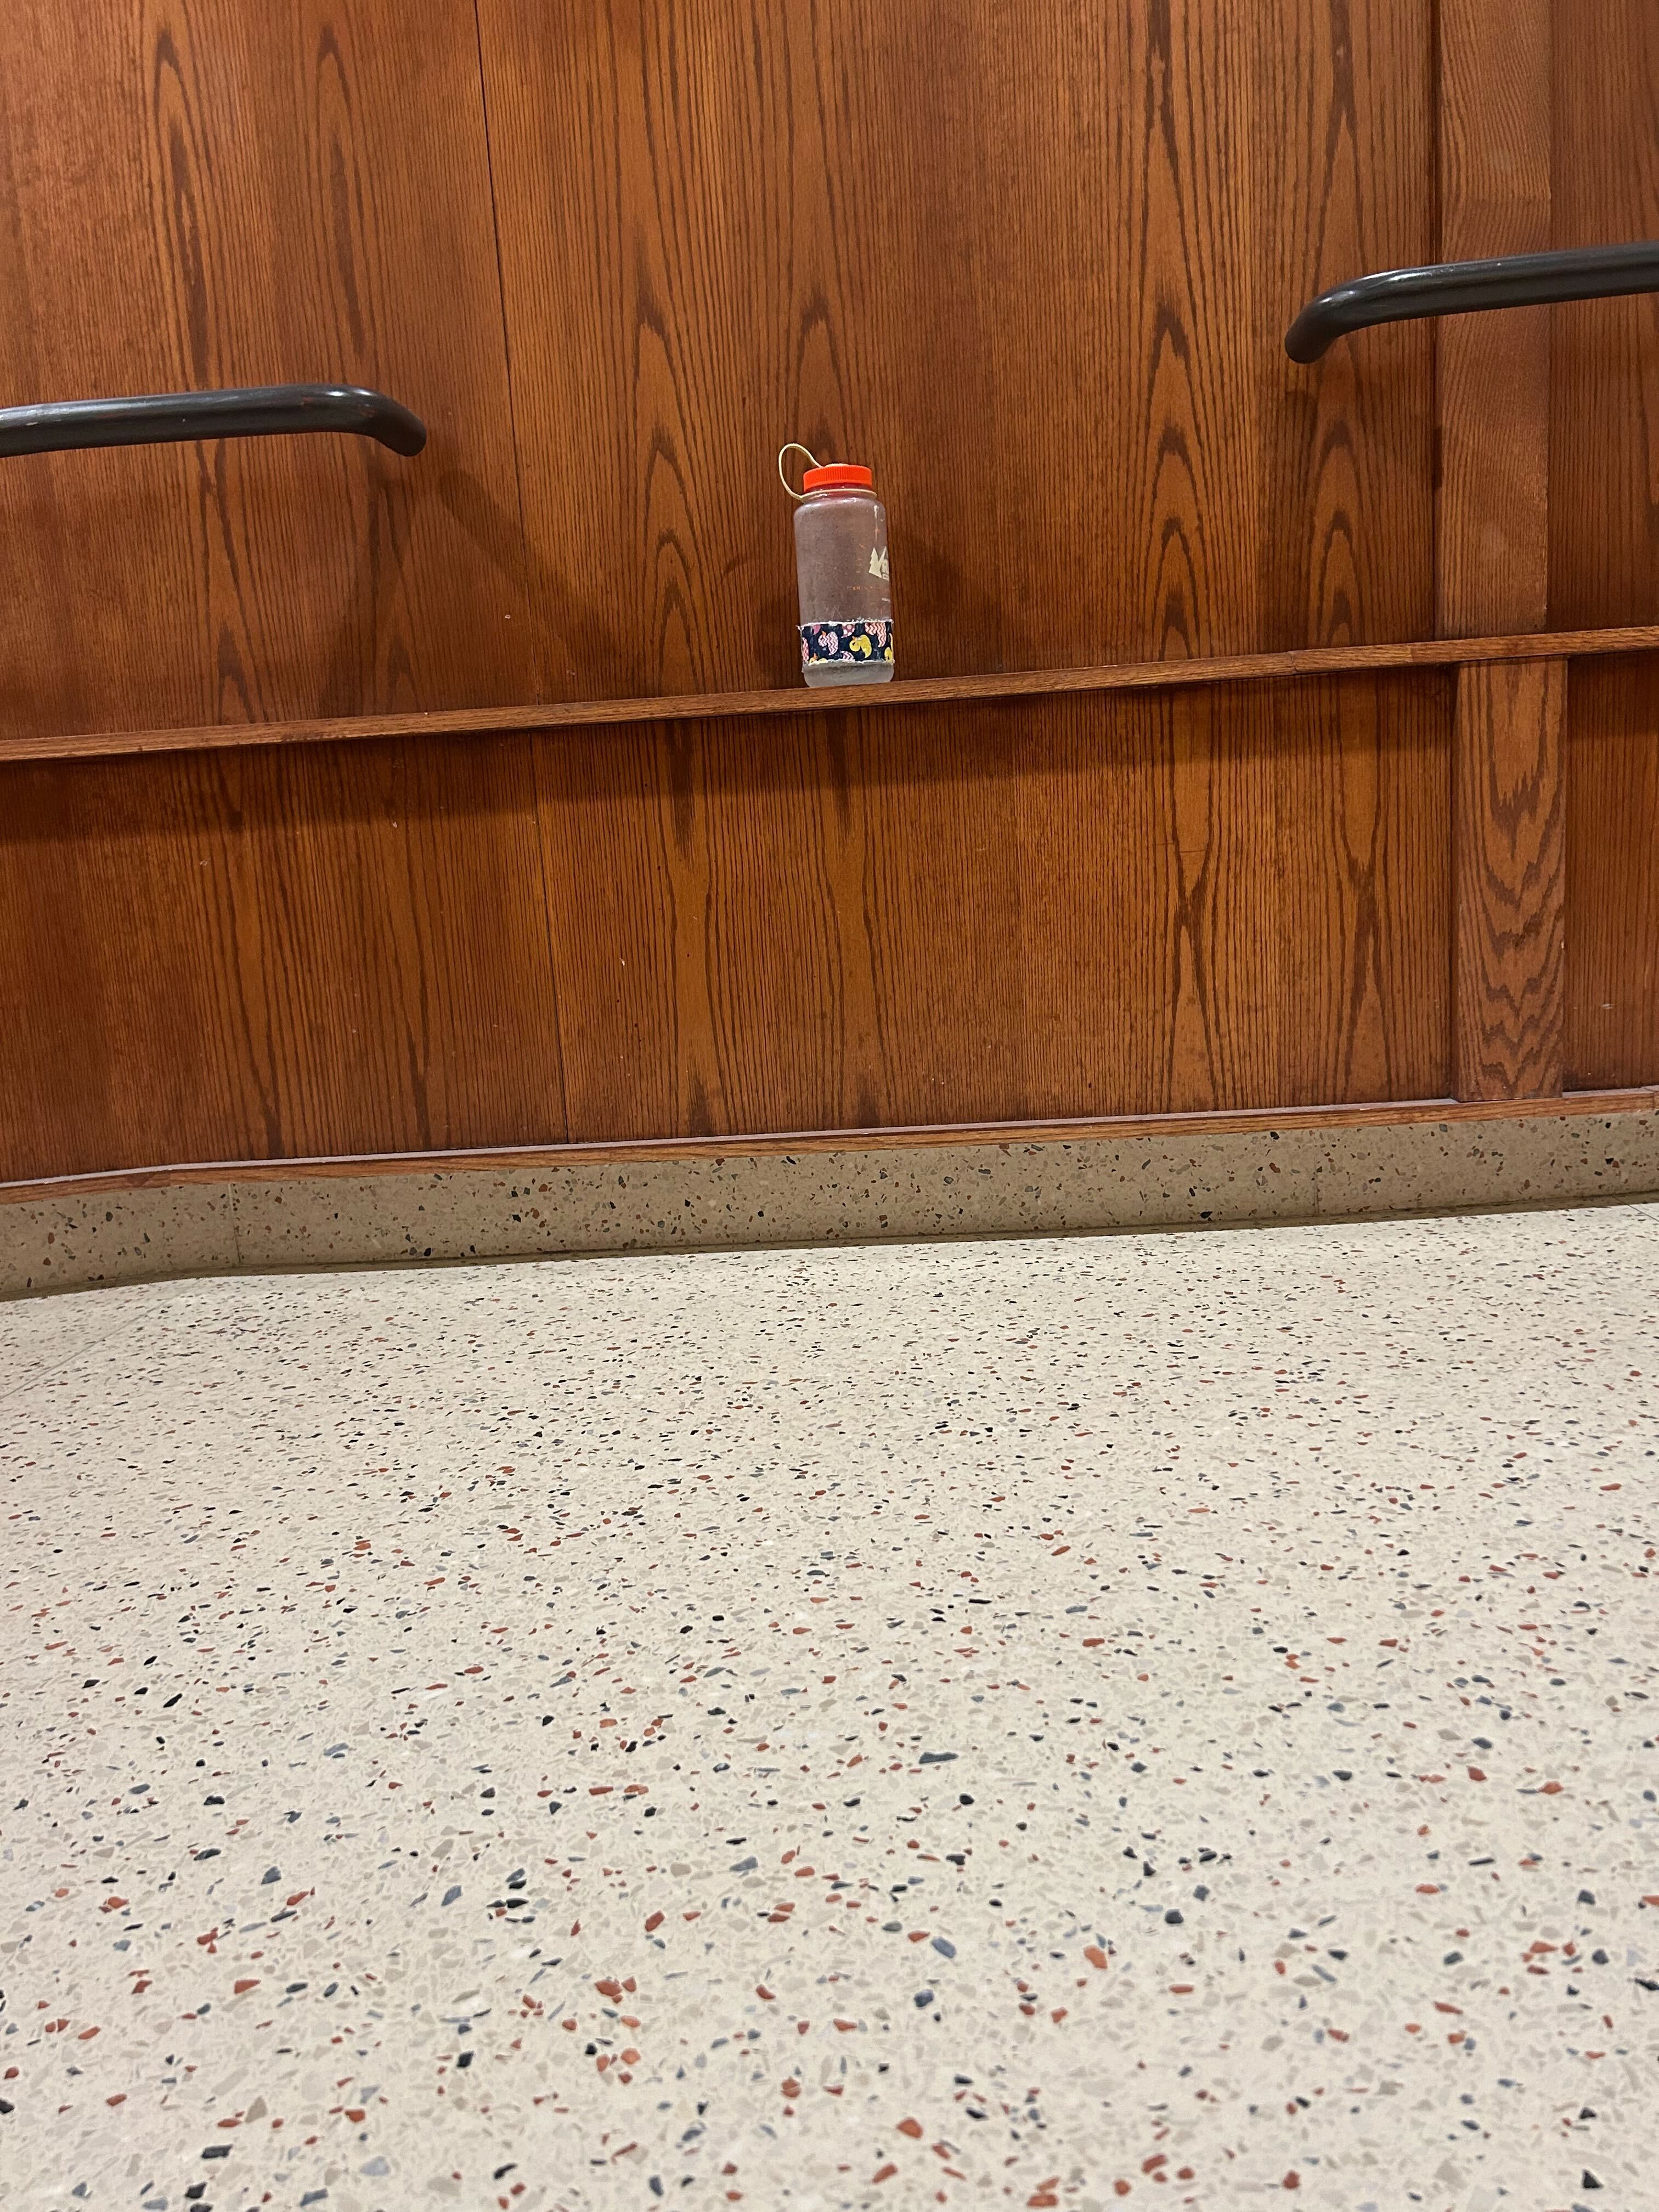bottle: (774, 427, 897, 700)
